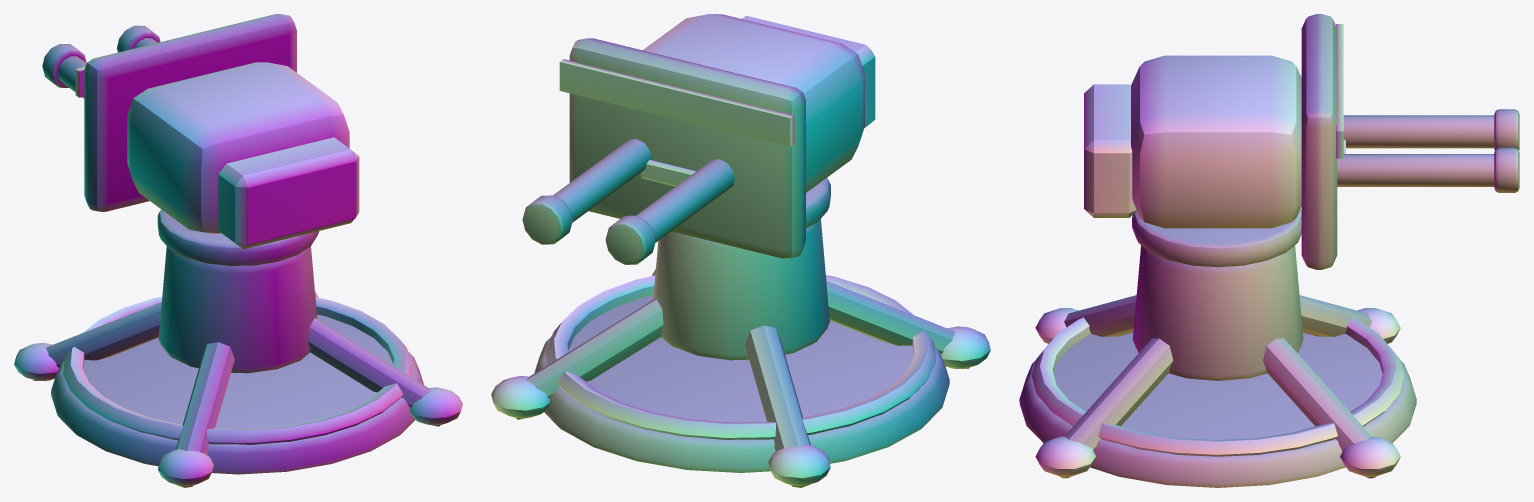
The model's file is gad_guardgun.glb.
3 views of the same model, side by side, from view 1: azimuth 30°, elevation 25°; view 2: azimuth 150°, elevation 25°; view 3: azimuth 270°, elevation 25° (orthographic). The views are drawn at different scales.
Parts seen in each view (by area): view 1: base, head; view 2: base, head; view 3: base, head.
Boxes of the visible parts, x1,y1,x2,y2 form: base: (14,209,462,487); head: (42,14,359,249); base: (491,178,990,487); head: (522,14,875,264); base: (1019,209,1416,487); head: (1084,14,1519,269).
Size of the model in its own units: 0.1569 by 0.1527 by 0.1974.
